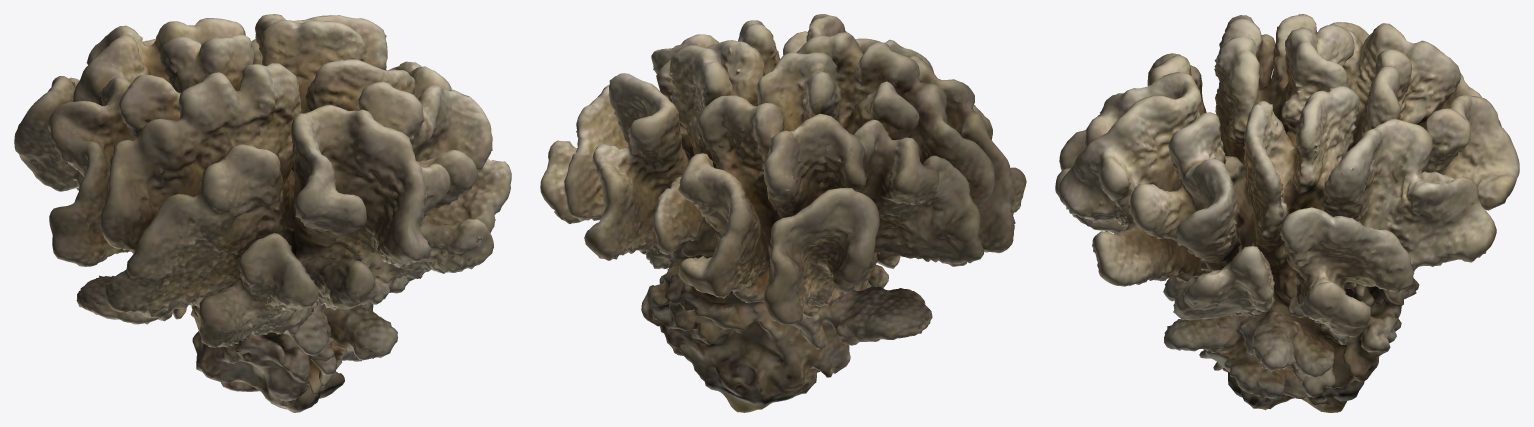
File: pocillopora_grandis.glb
The picture shows the model from 3 angles, left to right: view 1: azimuth 30°, elevation 25°; view 2: azimuth 150°, elevation 25°; view 3: azimuth 270°, elevation 25°; orthographic projection. The views are drawn at different scales.
Size of the model in its own units: 0.2508 by 0.2072 by 0.2469.
1 material, 1 textured.
